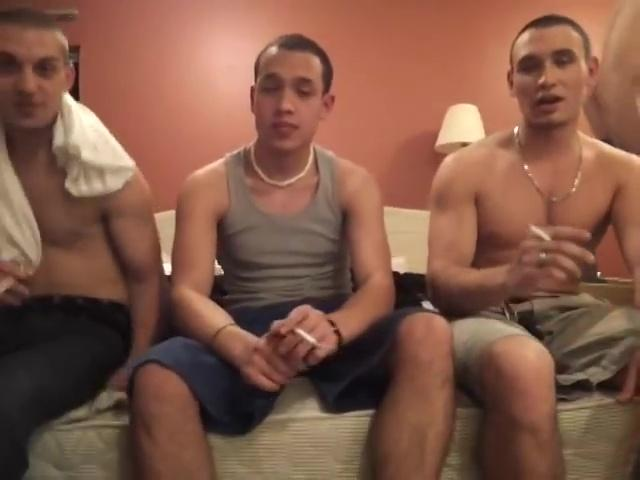cigarette: (294, 326, 326, 349), (527, 225, 556, 243)
